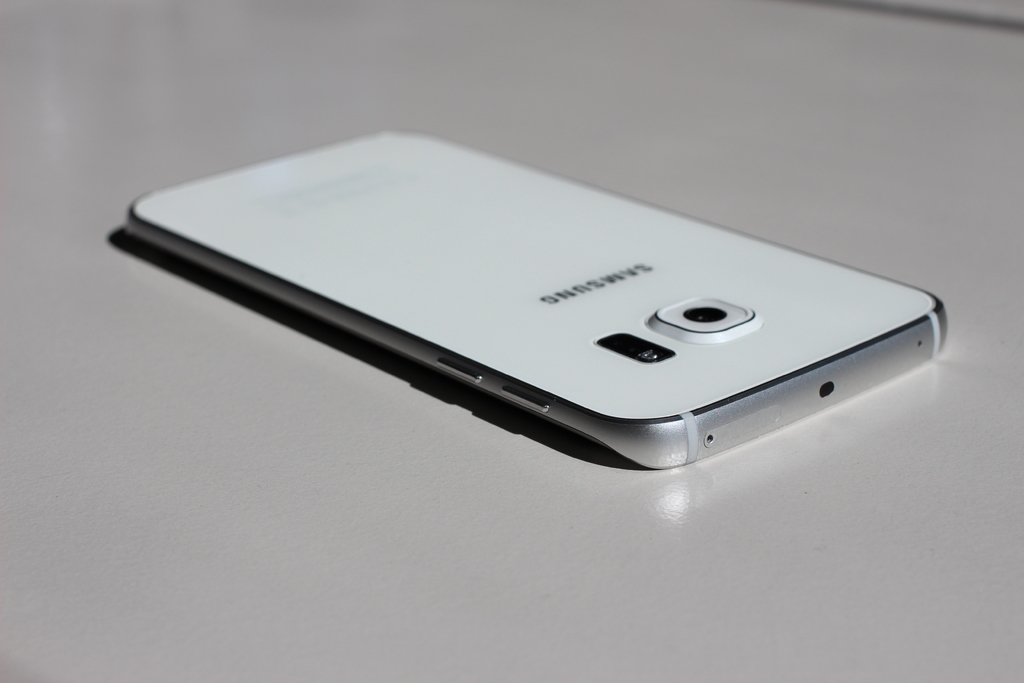mobile phone: (78, 137, 935, 472)
